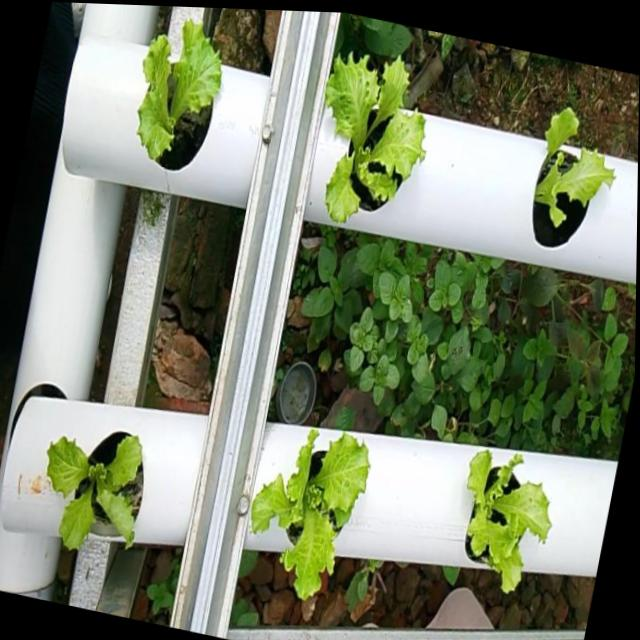Baby: (249, 424, 368, 594), (324, 38, 424, 220), (138, 16, 222, 167), (463, 448, 547, 590), (46, 425, 143, 543), (530, 108, 611, 248)
